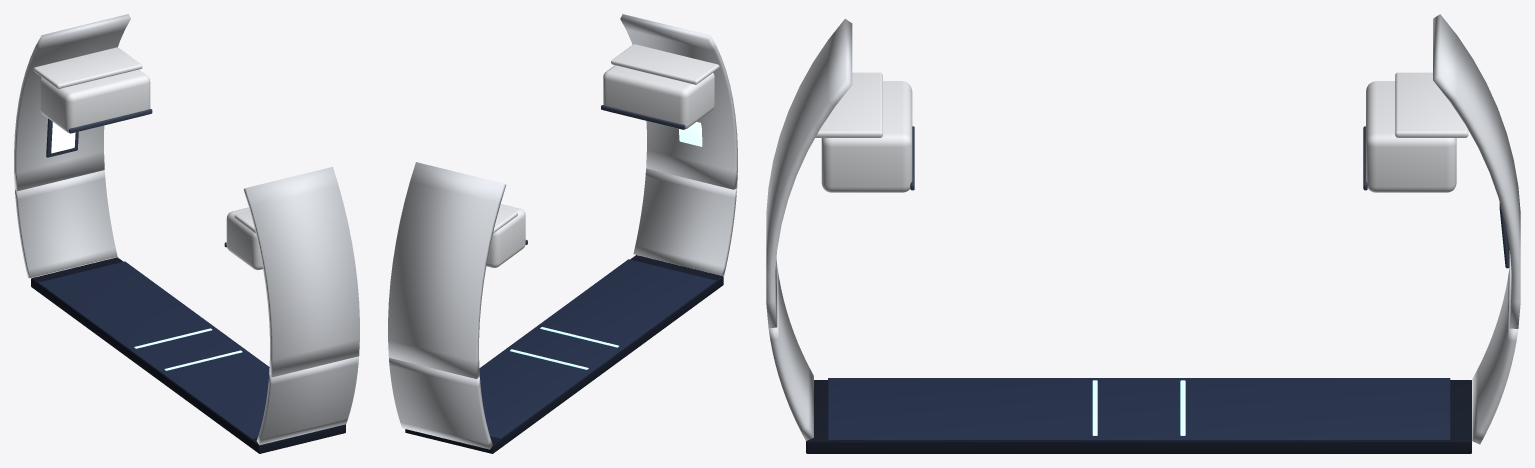
The model's file is cabin_segment.glb.
The picture shows the model from 3 angles, left to right: view 1: azimuth 30°, elevation 25°; view 2: azimuth 150°, elevation 25°; view 3: azimuth 270°, elevation 25°; orthographic projection. The views are drawn at different scales.
Visible parts, largest first — view 1: R_upper, core, L_upper, L_lower, R_lower, L_win; view 2: L_upper, core, R_upper, R_lower, L_lower, R_win; view 3: core, L_upper, R_upper, L_lower, R_lower.
Boxes of the visible parts, x1,y1,x2,y2 form: R_upper: [224, 167, 359, 377]; core: [31, 257, 345, 453]; L_upper: [14, 14, 152, 190]; L_lower: [15, 170, 117, 278]; R_lower: [256, 356, 358, 445]; L_win: [51, 122, 75, 153]; L_upper: [388, 162, 527, 378]; core: [405, 255, 723, 453]; R_upper: [601, 14, 737, 189]; R_lower: [633, 168, 736, 275]; L_lower: [389, 358, 492, 449]; R_win: [679, 122, 702, 146]; core: [806, 378, 1471, 453]; L_upper: [1363, 14, 1520, 328]; R_upper: [766, 19, 914, 328]; L_lower: [1472, 268, 1518, 444]; R_lower: [768, 267, 813, 440].
Bounding box in the file's own units: 1 × 2.86 × 5.16.
